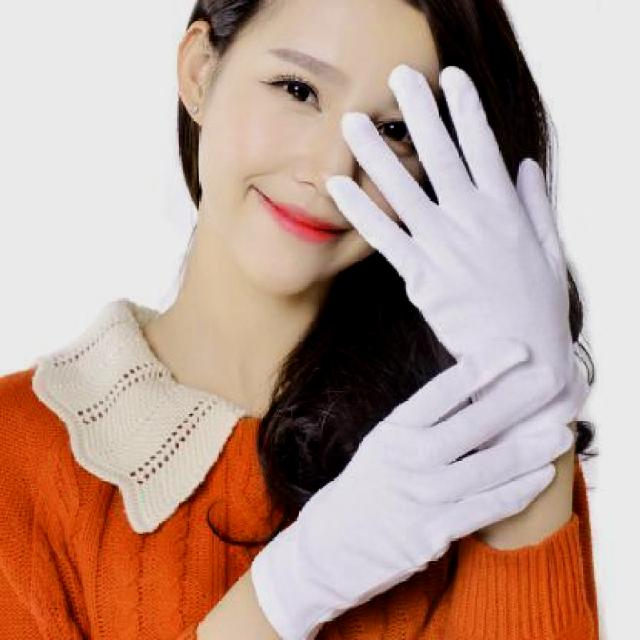face_nomask: (176, 12, 456, 276)
hand_glove: (324, 61, 590, 412), (292, 337, 574, 608)
person: (0, 1, 613, 640)
